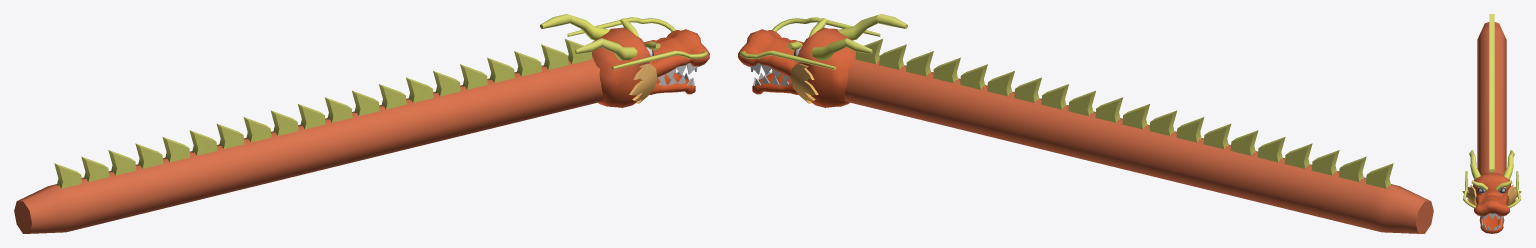
Rendered from dragon_chinese.fbx.
3 renders of one model, left to right at view 1: azimuth 30°, elevation 25°; view 2: azimuth 150°, elevation 25°; view 3: azimuth 270°, elevation 25°, orthographic. The views are drawn at different scales.
Parts seen in each view (by area): view 1: dragon_chinese; view 2: dragon_chinese; view 3: dragon_chinese.
Part boxes in pixels (x1,y1,x2,y2): dragon_chinese: [14, 14, 709, 233]; dragon_chinese: [738, 14, 1433, 233]; dragon_chinese: [1462, 14, 1521, 233].
Bounding box in the file's own units: 29.86 × 3.76 × 4.03.
